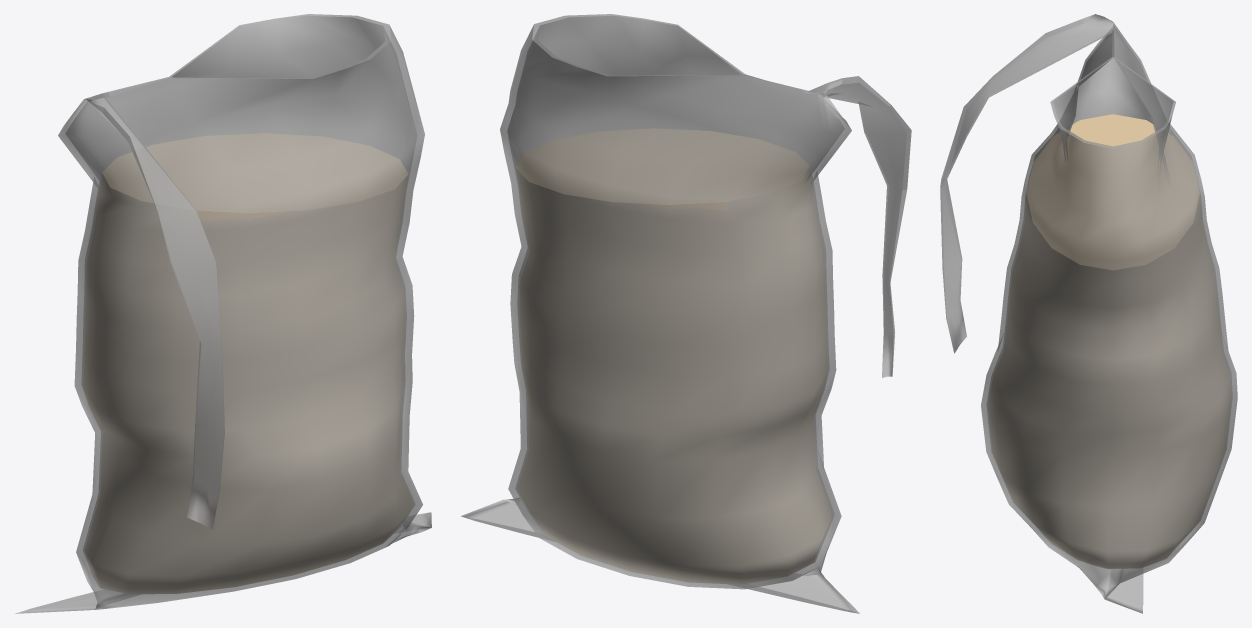
The model's file is RiceBag.fbx.
3 renders of one model, left to right at view 1: azimuth 30°, elevation 25°; view 2: azimuth 150°, elevation 25°; view 3: azimuth 270°, elevation 25°, orthographic. The views are drawn at different scales.
Parts seen in each view (by area): view 1: pCylinder3, pCylinder4; view 2: pCylinder3, pCylinder4; view 3: pCylinder3, pCylinder4.
Part boxes in pixels (<box>): pCylinder3: <box>15,14,431,613</box>; pCylinder4: <box>83,133,412,593</box>; pCylinder3: <box>461,14,911,613</box>; pCylinder4: <box>516,128,832,583</box>; pCylinder3: <box>940,14,1237,613</box>; pCylinder4: <box>988,114,1230,568</box>.
Bounding box in the file's own units: 2.12 × 2.54 × 1.53.
